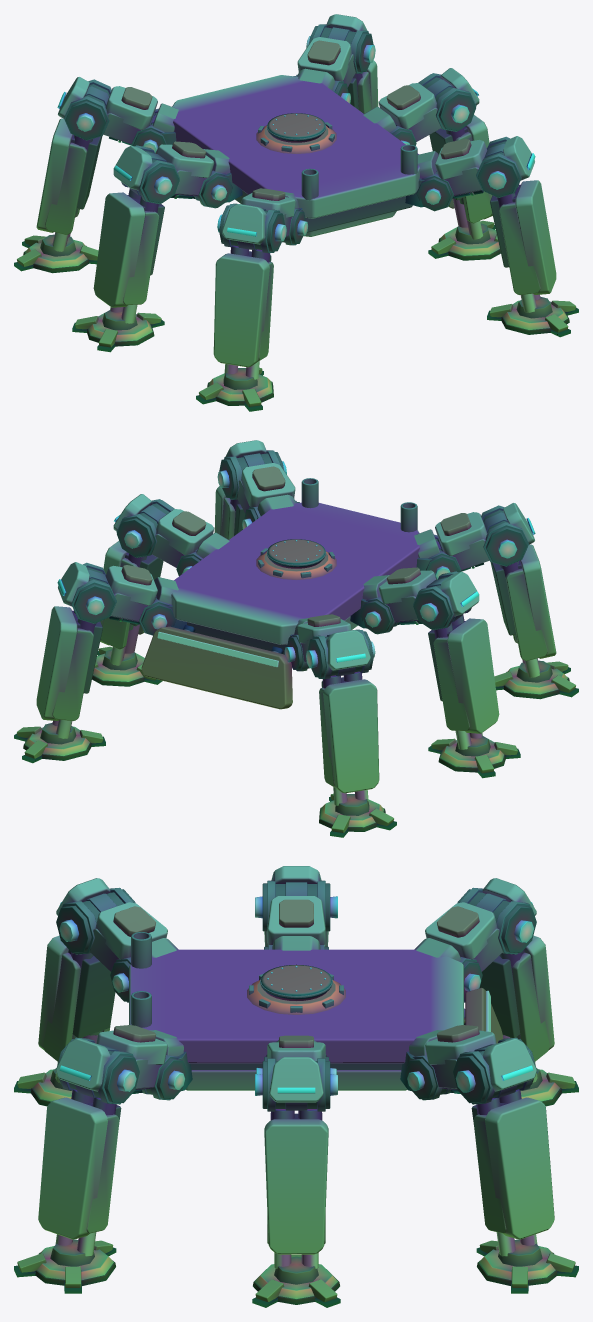
Rendered from legs_hex_colossus.glb.
3 renders of one model, top to bottom at view 1: azimuth 30°, elevation 25°; view 2: azimuth 150°, elevation 25°; view 3: azimuth 270°, elevation 25°, orthographic. The views are drawn at different scales.
Parts seen in each view (by area): view 1: Body__armor, Leg_4_Knee__armor, Leg_2_Knee__armor, Leg_5_Knee__armor, Body__dark, Leg_2_Femur__armor, Leg_0_Knee__armor_sub, Leg_4_Femur__armor, Leg_5_Knee__armor_sub, Leg_5_Femur__armor, Leg_0_Knee__armor, Leg_0_Femur__armor (+46 smaller); view 2: Body__armor, Body__armor_oxide, Leg_0_Knee__armor, Leg_2_Knee__armor, Leg_1_Knee__armor, Body__dark, Leg_2_Femur__armor, Leg_4_Knee__armor_sub, Leg_0_Femur__armor, Leg_1_Knee__armor_sub, Leg_1_Femur__armor, Leg_4_Knee__armor (+46 smaller); view 3: Body__armor, Leg_3_Knee__armor, Leg_1_Knee__armor, Leg_5_Knee__armor, Leg_1_Femur__armor, Leg_5_Femur__armor, Body__dark, Leg_3_Femur__armor, Body__armor_sub, Leg_4_Knee__dark, Body__armor_oxide, Leg_0_Femur__armor (+47 smaller).
Boxes of the visible parts, <box> form: Body__armor: <box>172,75,420,218</box>; Leg_4_Knee__armor: <box>213,253,269,367</box>; Leg_2_Knee__armor: <box>93,192,145,307</box>; Leg_5_Knee__armor: <box>515,180,556,294</box>; Body__dark: <box>267,113,412,232</box>; Leg_2_Femur__armor: <box>113,144,214,190</box>; Leg_0_Knee__armor_sub: <box>45,142,87,234</box>; Leg_4_Femur__armor: <box>222,193,295,244</box>; Leg_5_Knee__armor_sub: <box>499,202,540,294</box>; Leg_5_Femur__armor: <box>435,136,534,180</box>; Leg_0_Knee__armor: <box>36,118,72,232</box>; Leg_0_Femur__armor: <box>58,77,157,130</box>; Body__armor: <box>171,502,419,644</box>; Body__armor_oxide: <box>141,551,336,709</box>; Leg_0_Knee__armor: <box>323,679,379,793</box>; Leg_2_Knee__armor: <box>447,618,499,733</box>; Leg_1_Knee__armor: <box>36,606,77,720</box>; Body__dark: <box>183,539,325,654</box>; Leg_2_Femur__armor: <box>378,570,479,616</box>; Leg_4_Knee__armor_sub: <box>505,568,547,660</box>; Leg_0_Femur__armor: <box>297,619,370,670</box>; Leg_1_Knee__armor_sub: <box>52,628,93,720</box>; Leg_1_Femur__armor: <box>58,562,157,606</box>; Leg_4_Knee__armor: <box>520,544,556,658</box>; Body__armor: <box>129,949,463,1063</box>; Leg_3_Knee__armor: <box>264,1119,328,1254</box>; Leg_1_Knee__armor: <box>485,1097,554,1239</box>; Leg_5_Knee__armor: <box>38,1097,107,1239</box>; Leg_1_Femur__armor: <box>425,1030,536,1091</box>; Leg_5_Femur__armor: <box>56,1030,167,1091</box>; Body__dark: <box>190,964,402,1069</box>; Leg_3_Femur__armor: <box>267,1042,325,1102</box>; Body__armor_sub: <box>185,1070,407,1090</box>; Leg_4_Knee__dark: <box>68,949,115,1037</box>; Body__armor_oxide: <box>247,980,502,1043</box>; Leg_0_Femur__armor: <box>425,878,536,959</box>.
Bounding box in the file's own units: 4.8 × 1.94 × 4.52.
